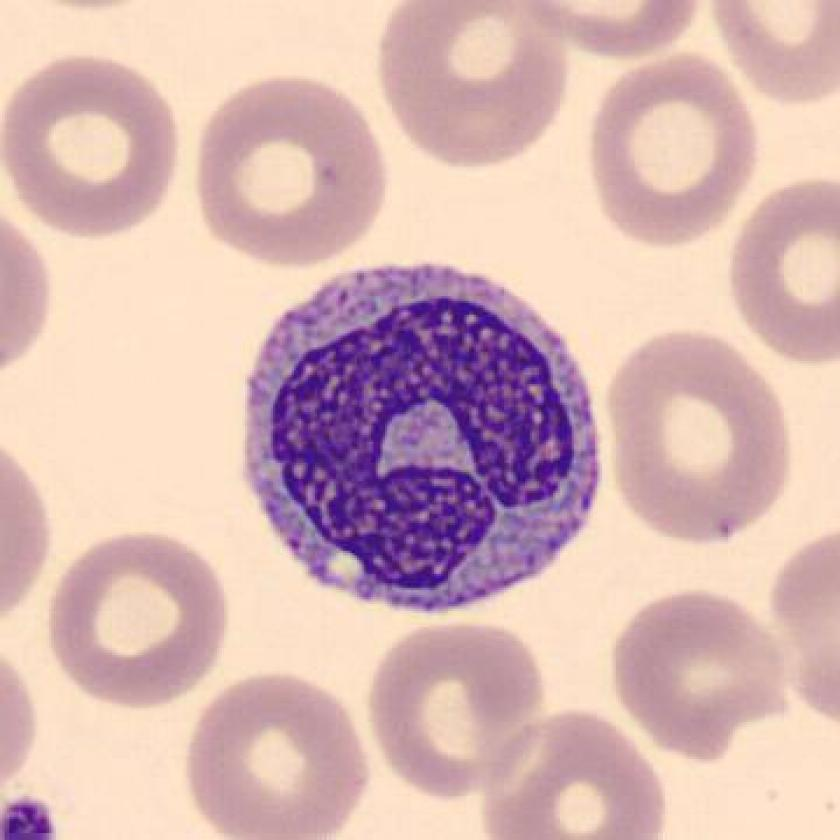monocyte: (218, 240, 624, 631)
